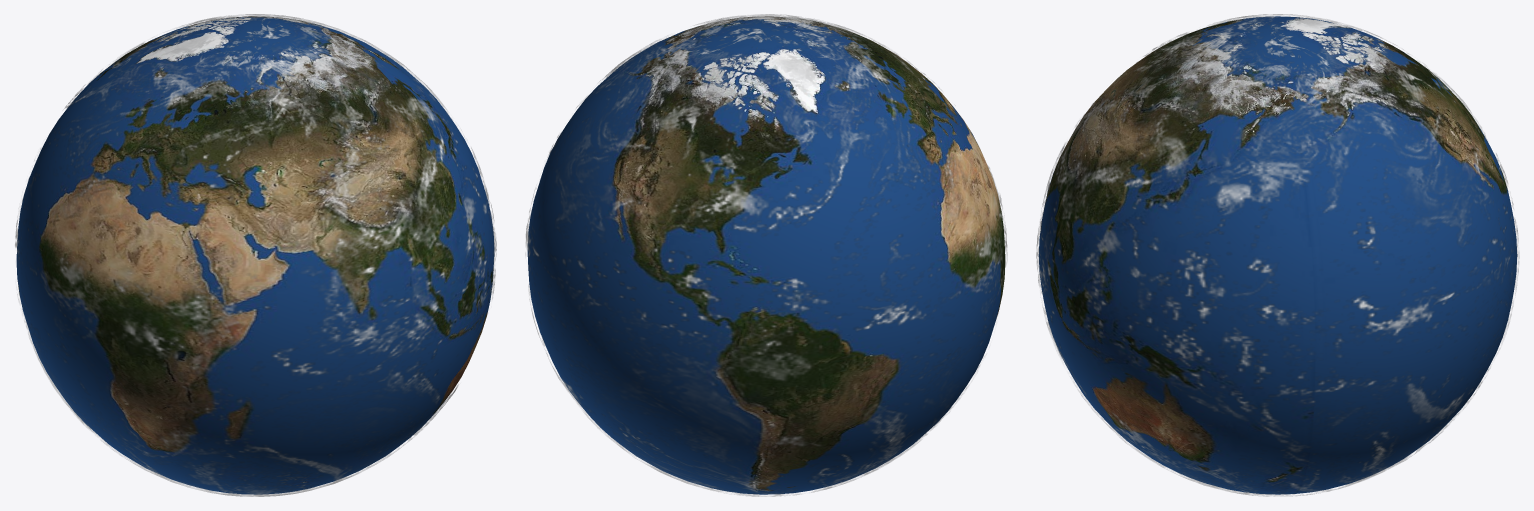
The model's file is Earth.glb.
The picture shows the model from 3 angles, left to right: view 1: azimuth 30°, elevation 25°; view 2: azimuth 150°, elevation 25°; view 3: azimuth 270°, elevation 25°; orthographic projection.
Visible parts, largest first — view 1: earth_ar_GEO, clouds_GEO; view 2: earth_ar_GEO, clouds_GEO; view 3: earth_ar_GEO, clouds_GEO.
Part boxes in pixels (bbox=[...]): earth_ar_GEO: bbox=[16, 16, 494, 494]; clouds_GEO: bbox=[15, 14, 496, 496]; earth_ar_GEO: bbox=[527, 16, 1005, 494]; clouds_GEO: bbox=[525, 14, 1007, 496]; earth_ar_GEO: bbox=[1038, 16, 1517, 494]; clouds_GEO: bbox=[1036, 14, 1519, 496].
Size of the model in its own units: 2.1 by 2.1 by 2.1.
Materials: 2 (2 with a texture image).
